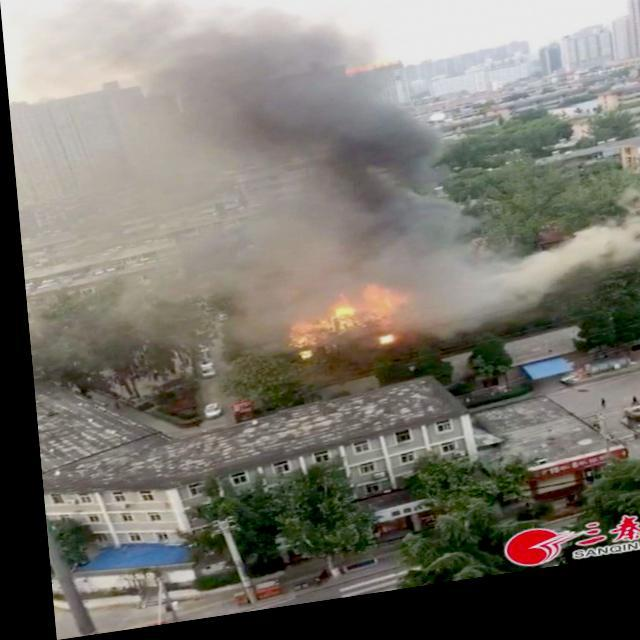Fire: (270, 287, 420, 371)
